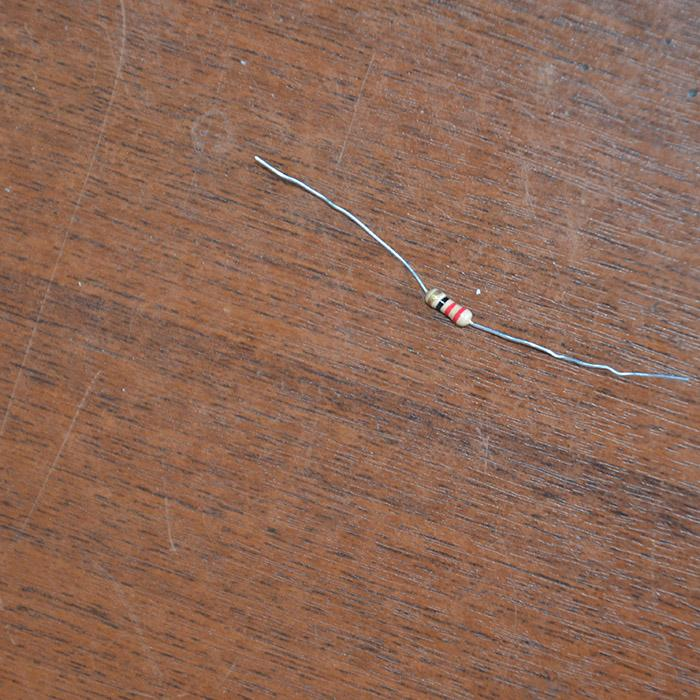resistor: (424, 286, 474, 327)
